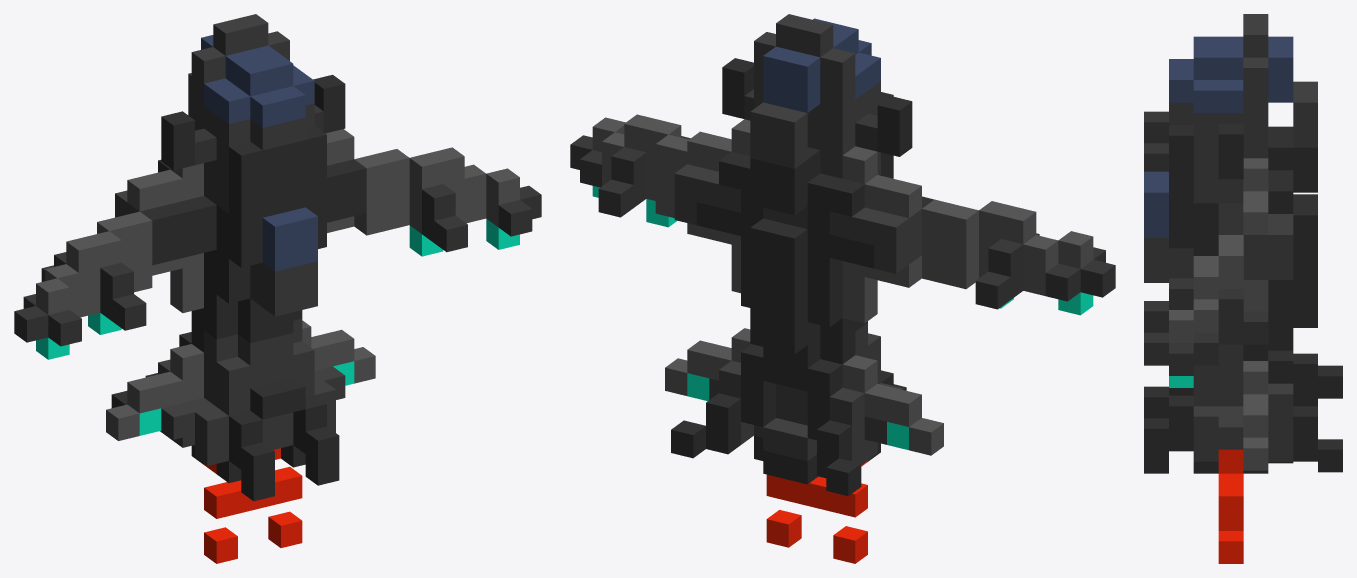
Rendered from MicroRecon.glb.
3 views of the same model, side by side, from view 1: azimuth 30°, elevation 25°; view 2: azimuth 150°, elevation 25°; view 3: azimuth 270°, elevation 25° (orthographic). The views are drawn at different scales.
Parts seen in each view (by area): view 1: Untitled; view 2: Untitled; view 3: Untitled.
Part boxes in pixels (x1,y1,x2,y2): Untitled: (14,14,541,563); Untitled: (570,14,1115,563); Untitled: (1144,14,1342,563).
Size of the model in its own units: 2.4 by 2.3 by 0.8.
Materials: 1 (1 with a texture image).
